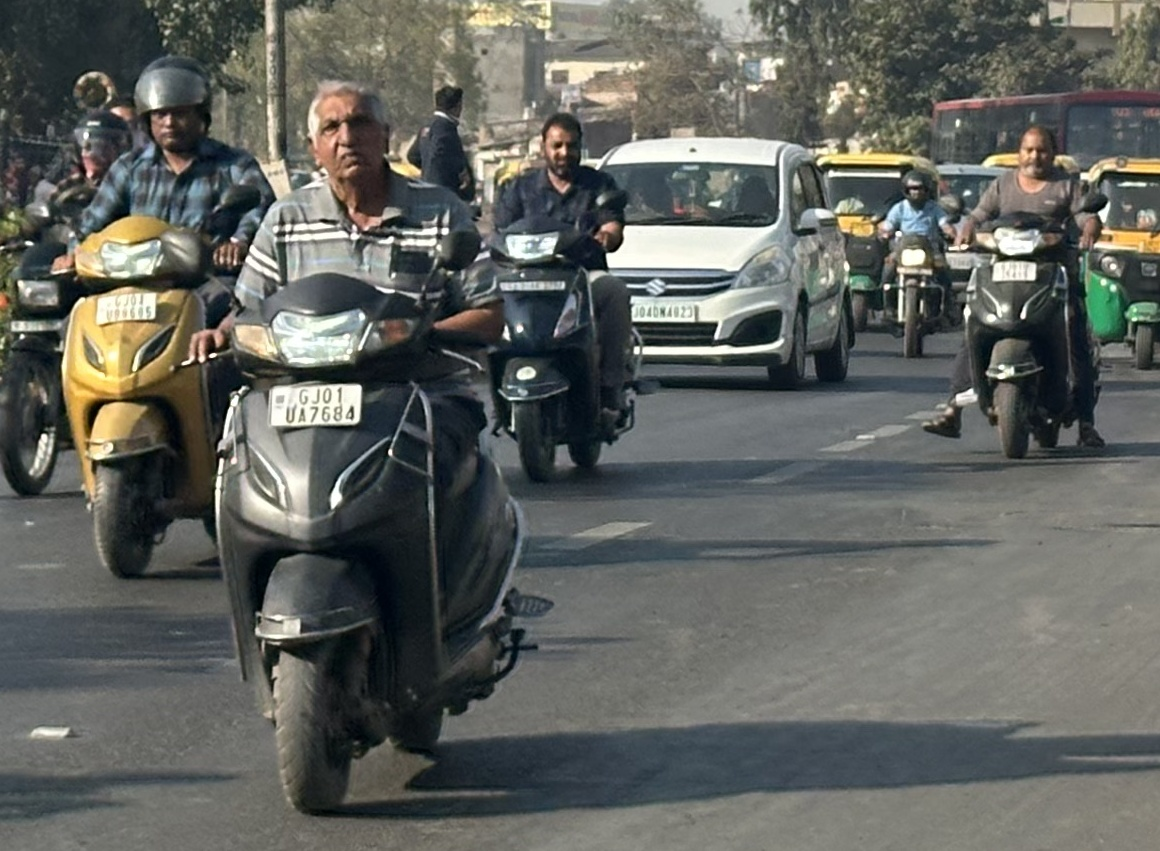BikeWithRider: (169, 79, 557, 821), (48, 48, 279, 580), (480, 106, 663, 486), (919, 121, 1114, 464), (1, 105, 134, 500), (864, 164, 959, 362)
Helmet: (127, 50, 213, 155), (70, 109, 128, 175), (895, 166, 932, 207)
NoHelmet: (303, 79, 396, 181), (538, 110, 588, 175), (1015, 126, 1063, 181)
